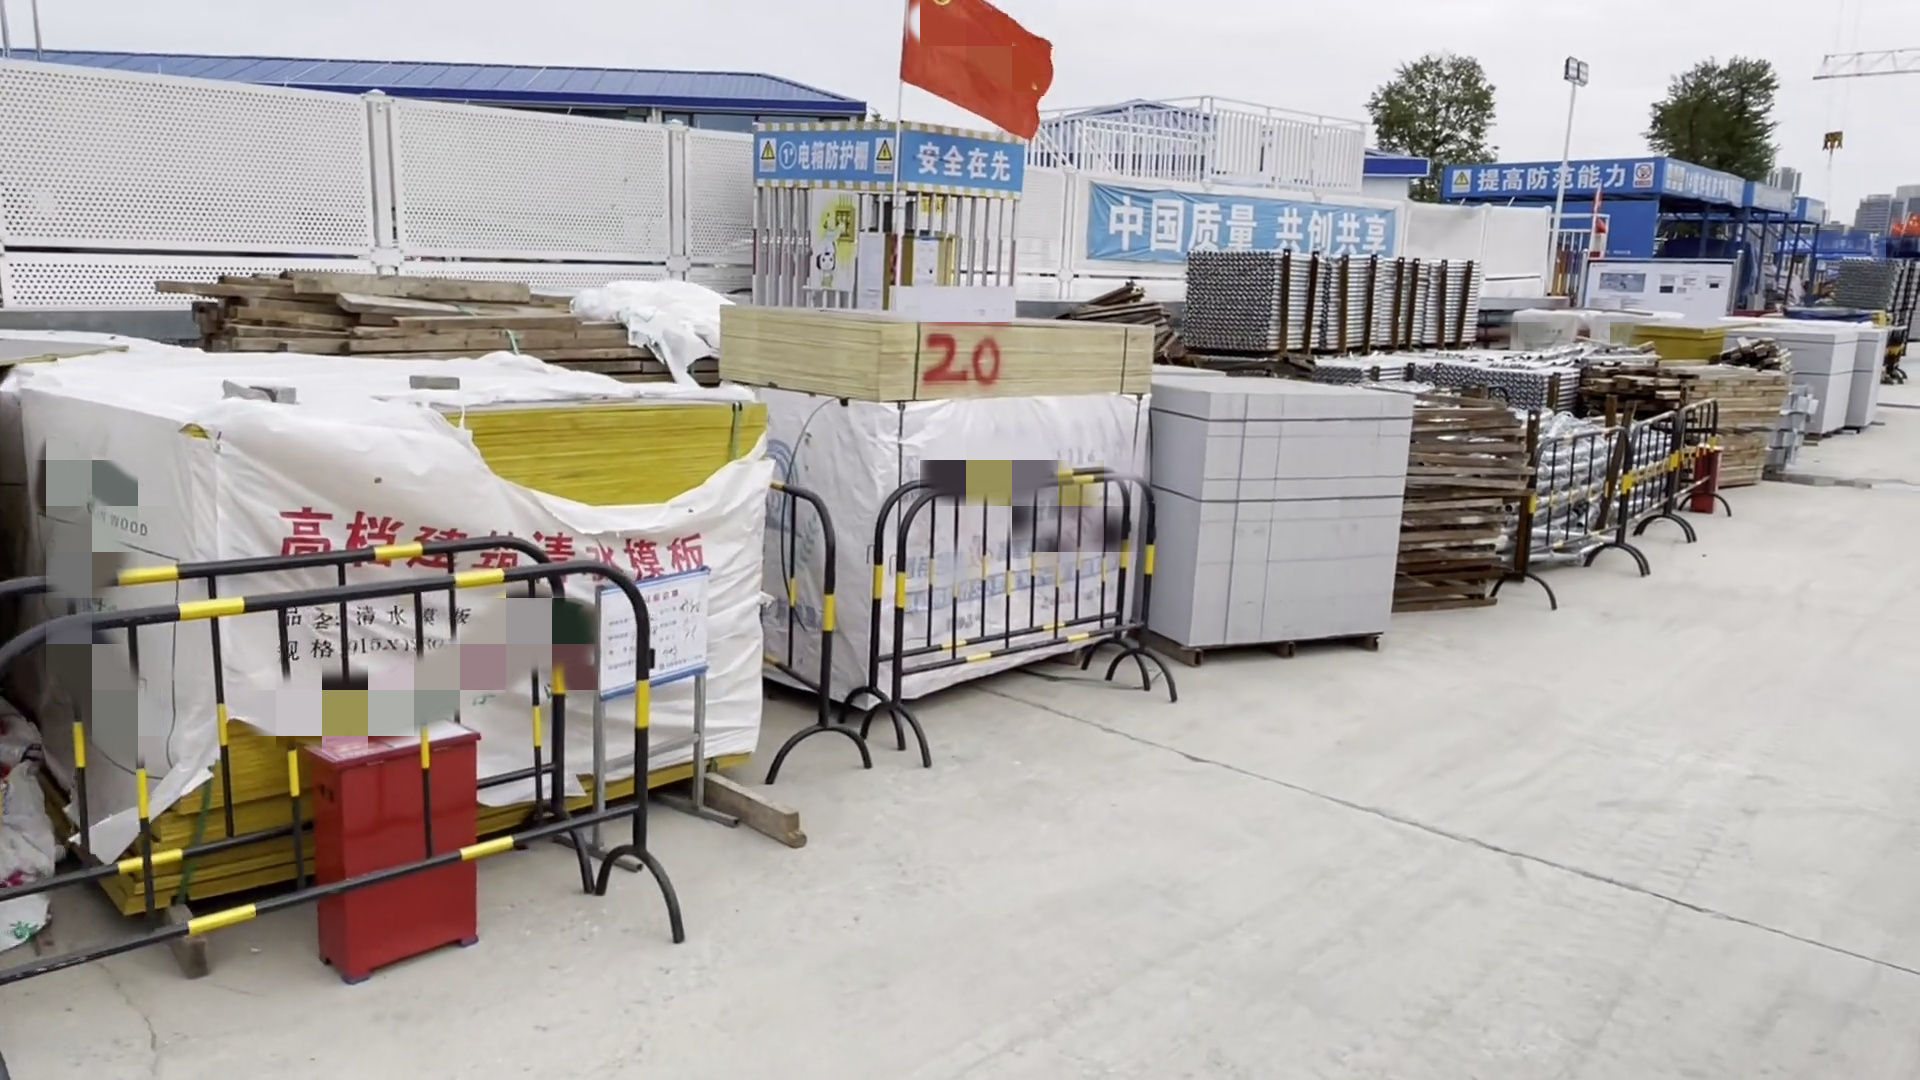brick: (1134, 371, 1400, 649), (1735, 322, 1844, 439), (1851, 324, 1900, 438)
fence: (1, 556, 683, 1079), (876, 452, 1175, 752), (771, 472, 872, 790), (1505, 436, 1633, 611), (1629, 417, 1688, 574), (1685, 396, 1725, 559)
scaffold: (1513, 401, 1683, 549), (1420, 330, 1609, 411)
slogan: (1091, 182, 1398, 258), (744, 123, 899, 181), (1444, 156, 1656, 194), (898, 123, 1025, 183)
